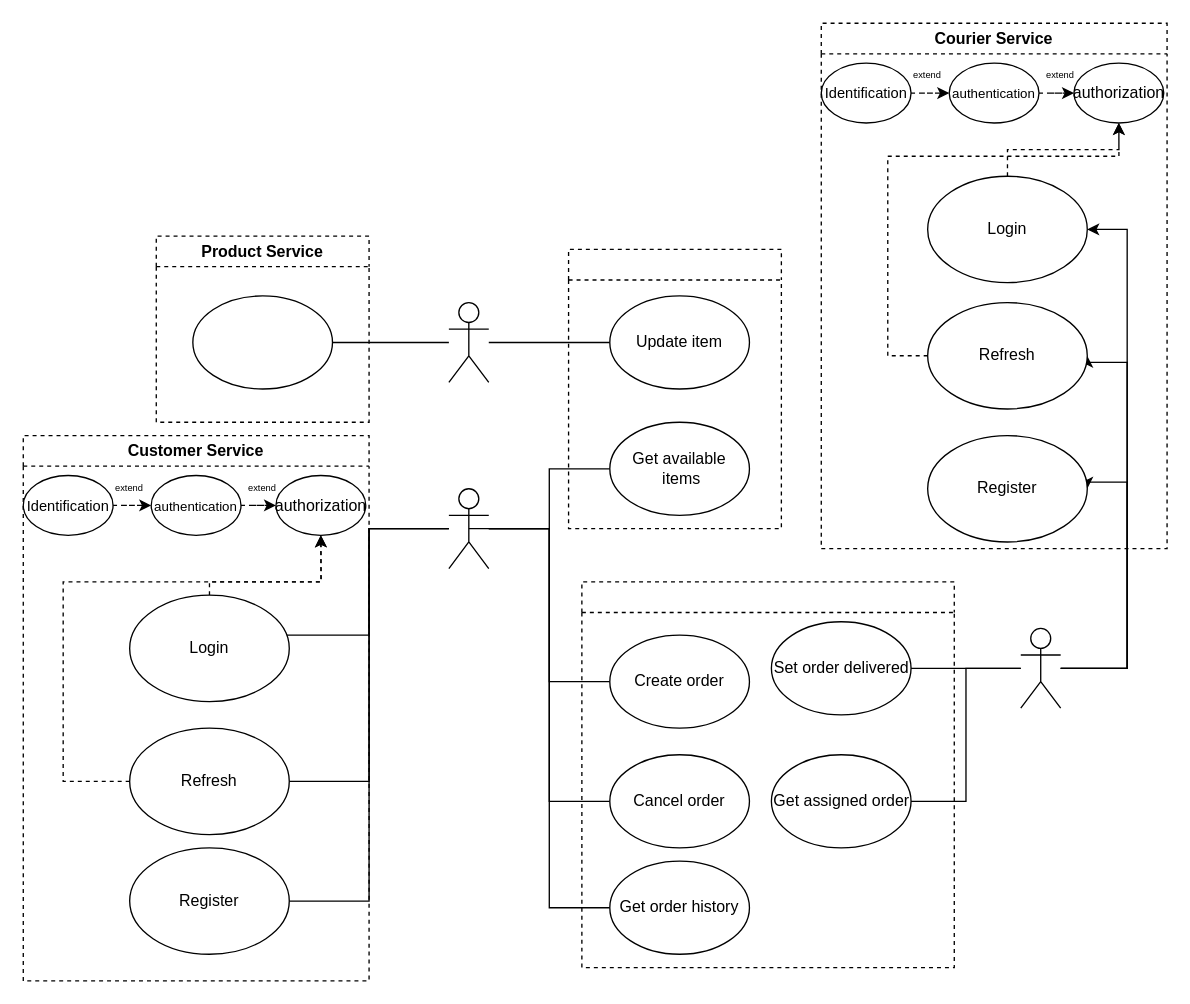
Some shapes in this 1190 by 1004 pixel diagram are drawn without their labels. The shapes that lost their labels are listed below. From the top down, each one's box as (x1, y1, x2, y2) in pixels, then its label:
(192, 295, 332, 389): Create product
(448, 301, 489, 382): Warehouse
(567, 248, 781, 529): Item Service
(448, 487, 489, 569): Customer
(1019, 627, 1061, 708): Courier
(581, 581, 954, 968): Order Service
